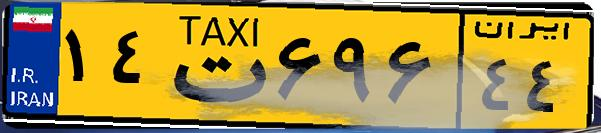1: (57, 26, 110, 100)
4: (475, 38, 525, 113), (525, 38, 570, 115), (110, 28, 158, 98)
6: (270, 28, 330, 110), (385, 28, 445, 110)
9: (330, 28, 385, 110)
ت: (158, 12, 270, 120)
